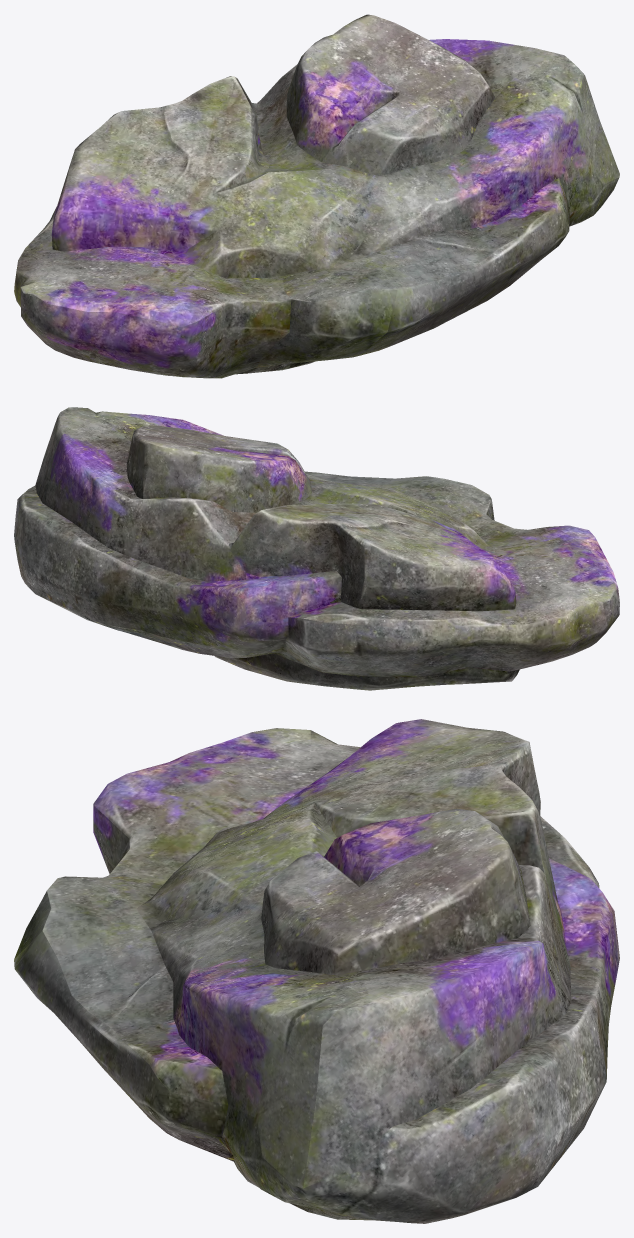
3 views of the same model, one above another, from view 1: azimuth 30°, elevation 25°; view 2: azimuth 150°, elevation 25°; view 3: azimuth 270°, elevation 25° (orthographic). The views are drawn at different scales.
Visible parts, largest first — view 1: SM_Mining_Node_Large_Mithril_01_LOD0; view 2: SM_Mining_Node_Large_Mithril_01_LOD0; view 3: SM_Mining_Node_Large_Mithril_01_LOD0.
Boxes of the visible parts, x1,y1,x2,y2 form: SM_Mining_Node_Large_Mithril_01_LOD0: (14,14,619,378); SM_Mining_Node_Large_Mithril_01_LOD0: (14,407,619,690); SM_Mining_Node_Large_Mithril_01_LOD0: (14,719,619,1223).
Size of the model in its own units: 5.52 by 2.18 by 3.38.
